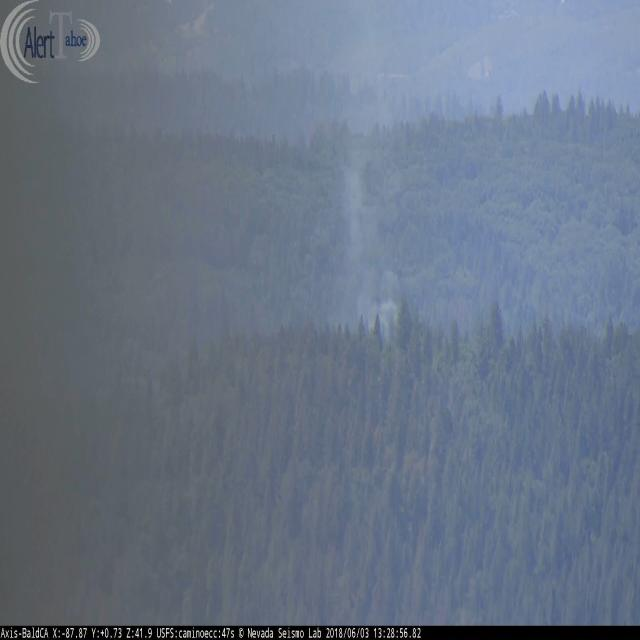smoke: (345, 173, 396, 344)
